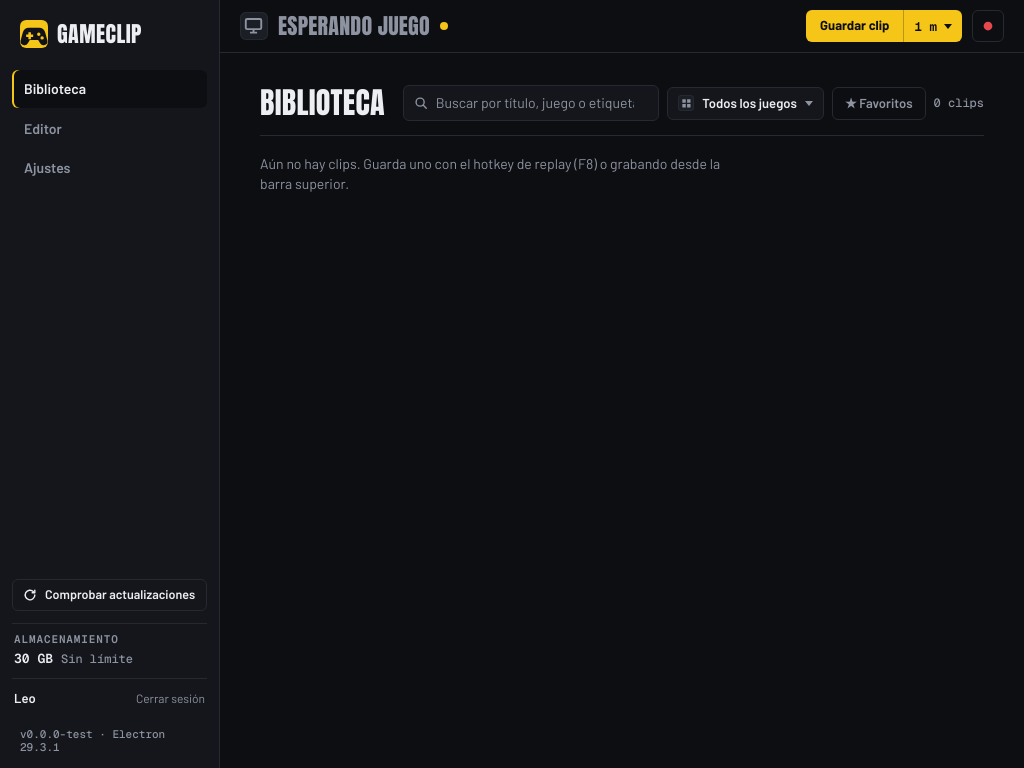
Test: Ajustes — Overlay de rendimiento › avisa junto a las métricas que FPS y Temp CPU necesitan administrador
Click the link "Ajustes".
click(47, 168)  # box x1=24 y1=159 x2=70 y2=176
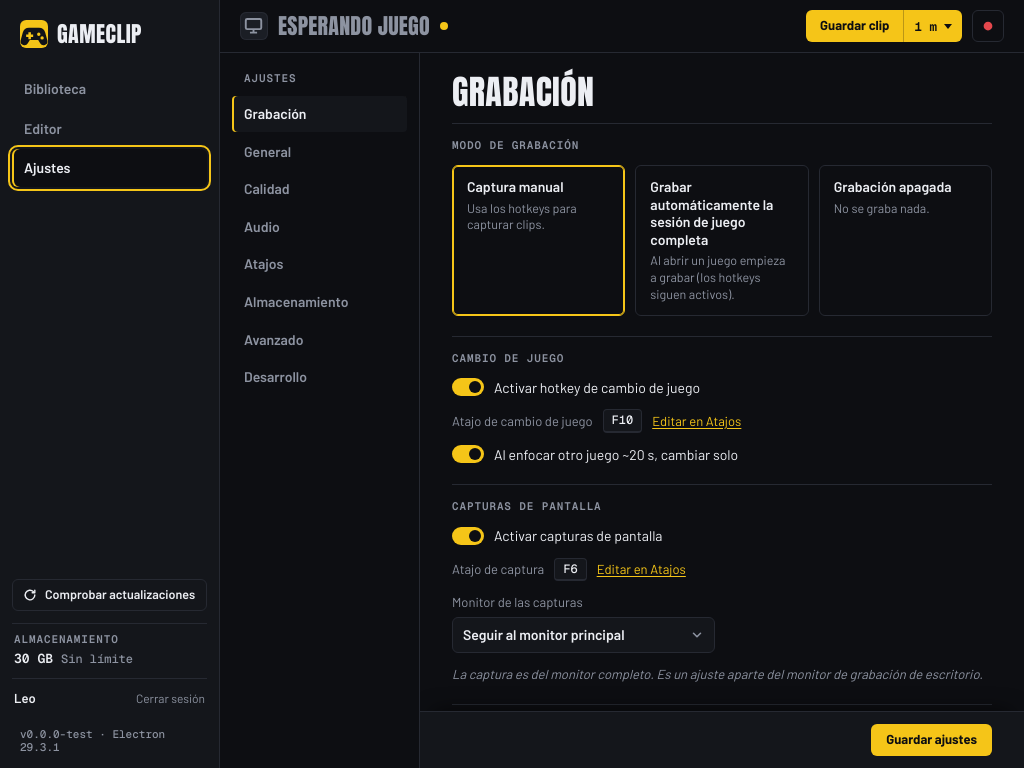
Click the link "Avanzado".
click(274, 339)  # box x1=244 y1=331 x2=303 y2=348
(page scrolled)
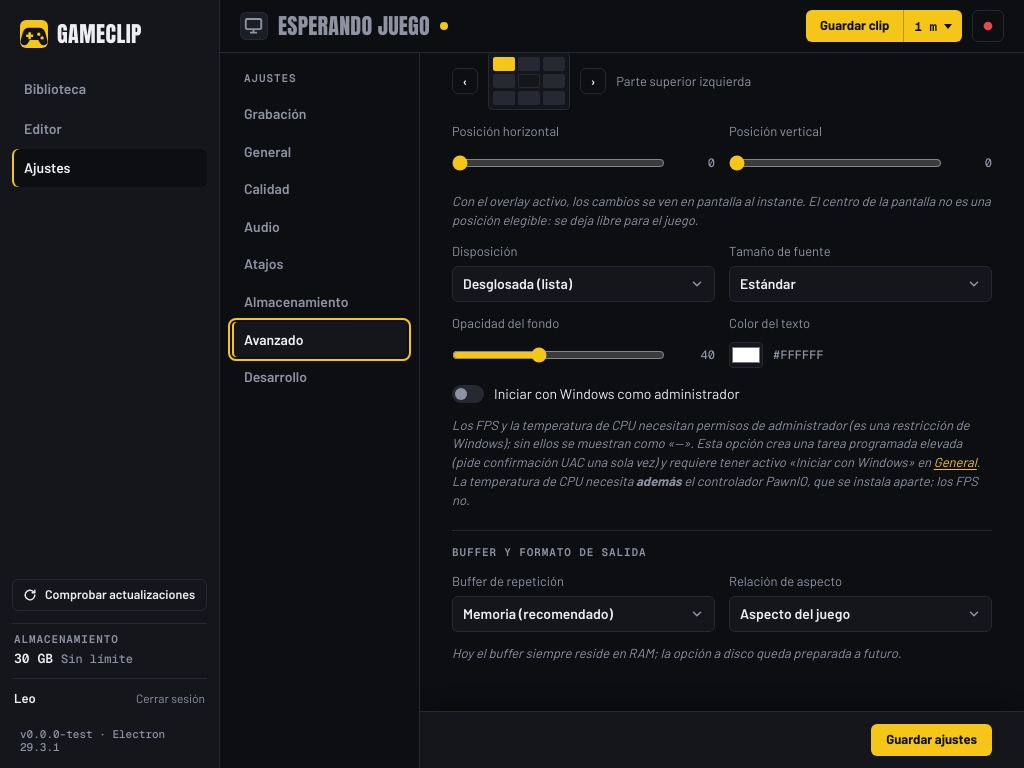
Now the text "crea una tarea programada elevada" is shown, box x1=452 y1=417 x2=970 y2=470
